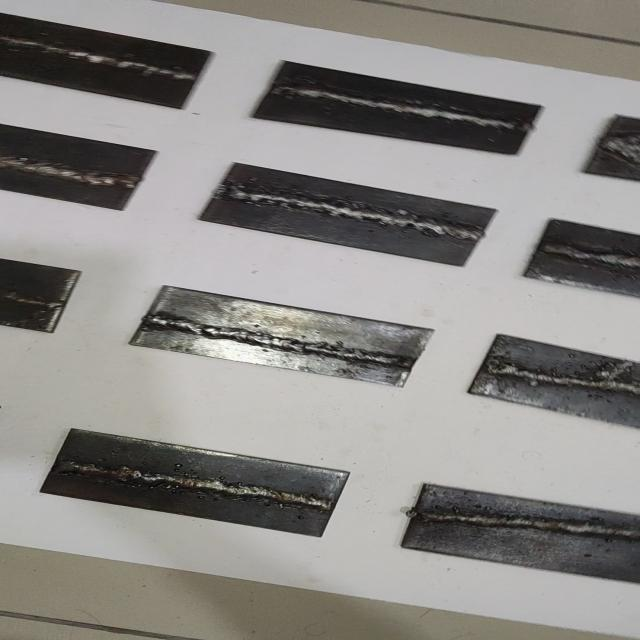Bad Weld: (490, 362, 640, 396)
Defect: (590, 358, 637, 390), (607, 134, 640, 164)
Good Weld: (217, 181, 487, 244), (55, 457, 338, 511), (141, 312, 415, 366), (270, 80, 531, 132), (0, 35, 201, 83), (415, 507, 640, 541), (0, 153, 142, 190), (543, 242, 640, 270), (0, 290, 71, 313)
